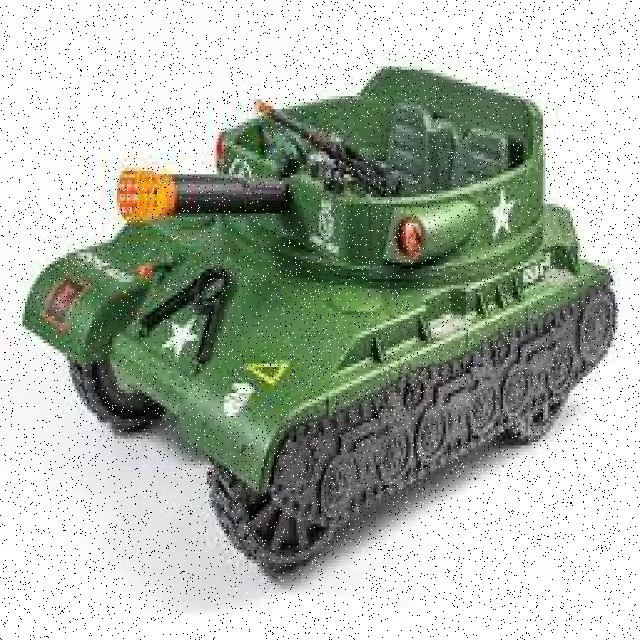MIL_MBT: (66, 49, 614, 622)
